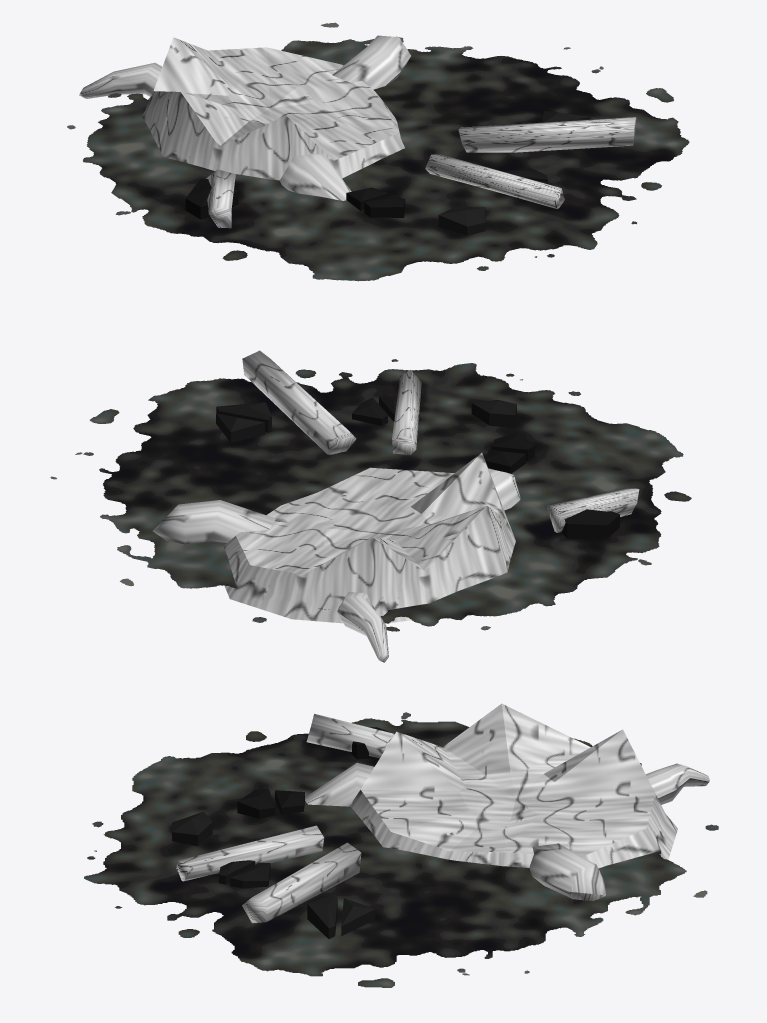
The model's file is CreTreesmudge04.glb.
3 renders of one model, top to bottom at view 1: azimuth 30°, elevation 25°; view 2: azimuth 150°, elevation 25°; view 3: azimuth 270°, elevation 25°, orthographic. The views are drawn at different scales.
Visible parts, largest first — view 1: CreTreesmudge04_bed; view 2: CreTreesmudge04_bed; view 3: CreTreesmudge04_bed.
Part boxes in pixels (left/top/right/bottom): CreTreesmudge04_bed: left=67, top=22, right=689, bottom=281; CreTreesmudge04_bed: left=50, top=350, right=691, bottom=662; CreTreesmudge04_bed: left=84, top=703, right=718, bottom=987.
Bounding box in the file's own units: 2.95 × 0.35 × 2.9.
Materials: 3 (2 with a texture image).
